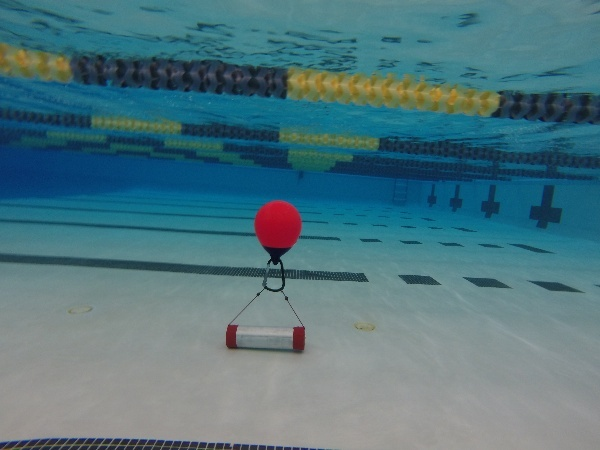buoy_red: (250, 201, 306, 268)
